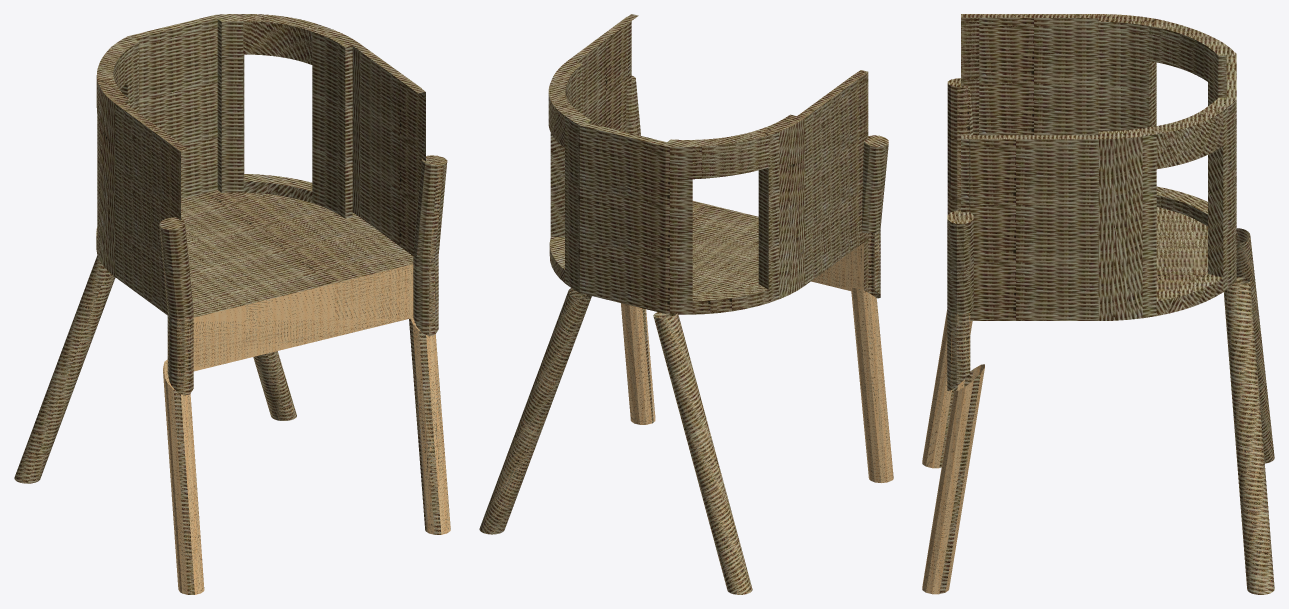
File: korbstuhl.dae
3 views of the same model, side by side, from view 1: azimuth 30°, elevation 25°; view 2: azimuth 150°, elevation 25°; view 3: azimuth 270°, elevation 25° (orthographic). The views are drawn at different scales.
Parts seen in each view (by area): view 1: SketchUp (×9); view 2: SketchUp (×7); view 3: SketchUp (×7).
Part boxes in pixels (box(x1,y1,x2,y2)): SketchUp (×9): box(14, 14, 450, 594); SketchUp (×7): box(479, 14, 893, 594); SketchUp (×7): box(922, 14, 1274, 594).
Bounding box in the file's own units: 0.5021 × 0.5111 × 0.7196.
Materials: 16 (14 with a texture image).
